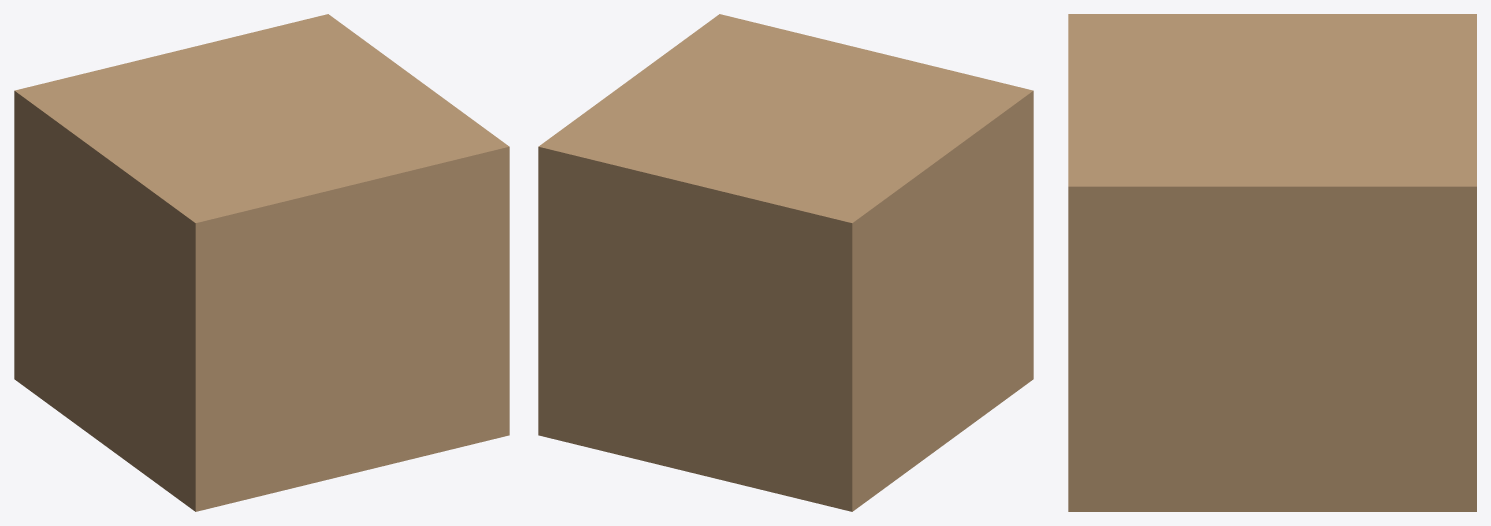
The model's file is crate.glb.
3 renders of one model, left to right at view 1: azimuth 30°, elevation 25°; view 2: azimuth 150°, elevation 25°; view 3: azimuth 270°, elevation 25°, orthographic. The views are drawn at different scales.
Visible parts, largest first — view 1: box_A; view 2: box_A; view 3: box_A.
Part boxes in pixels (left/top/right/bottom): box_A: left=14, top=14, right=509, bottom=511; box_A: left=538, top=14, right=1033, bottom=511; box_A: left=1068, top=14, right=1476, bottom=511.
Size of the model in its own units: 0.2 by 0.1764 by 0.2031.
